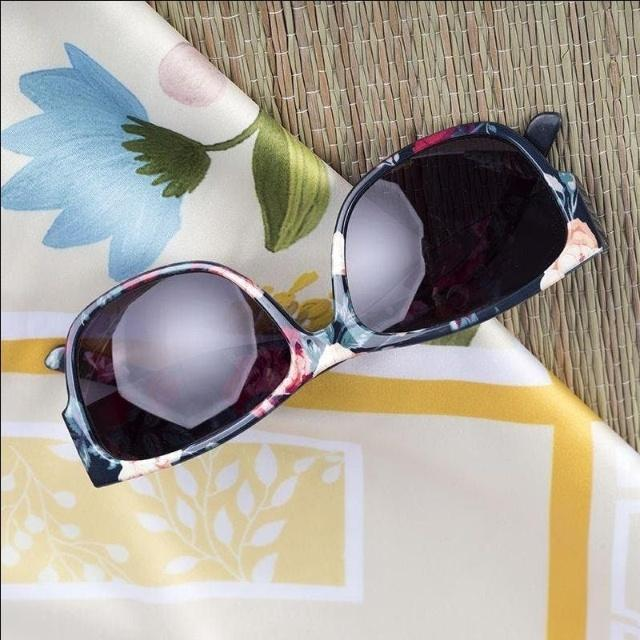Sunglasses: (18, 110, 616, 496)
